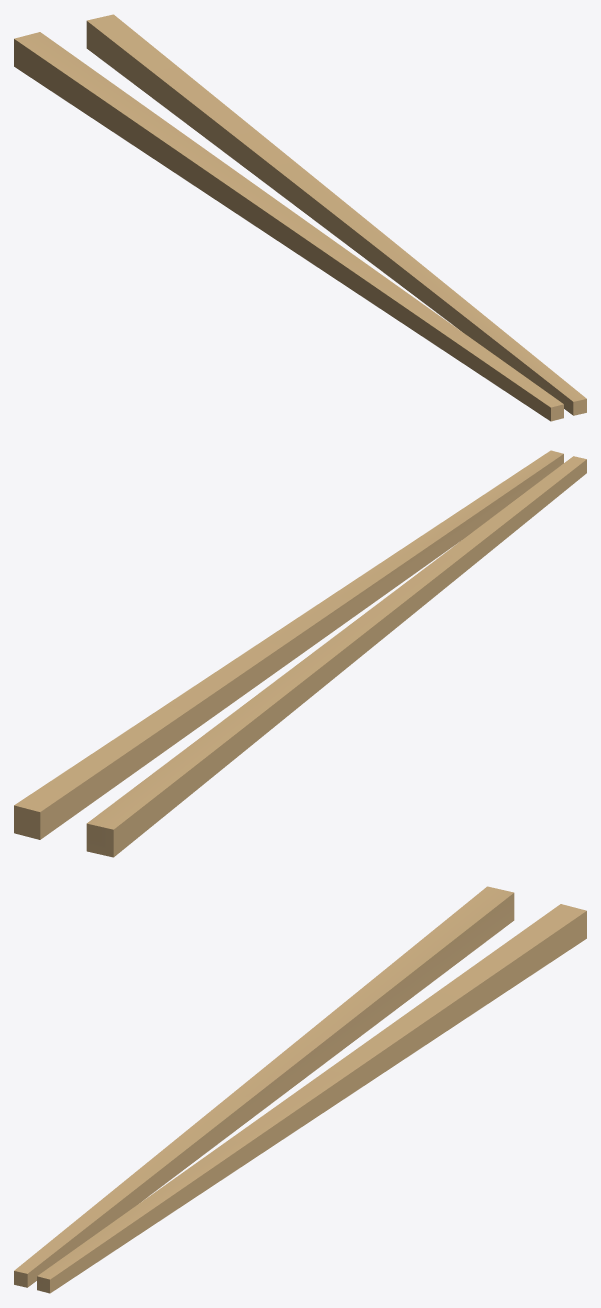
File: chopsticks.glb
3 views of the same model, one above another, from view 1: azimuth 30°, elevation 25°; view 2: azimuth 150°, elevation 25°; view 3: azimuth 330°, elevation 25° (orthographic).
Parts seen in each view (by area): view 1: chopsticks; view 2: chopsticks; view 3: chopsticks.
Boxes of the visible parts, x1,y1,x2,y2 form: chopsticks: (14, 14, 586, 421); chopsticks: (14, 450, 586, 857); chopsticks: (14, 886, 586, 1293).
Size of the model in its own units: 0.0262 by 0.007 by 0.2302.
